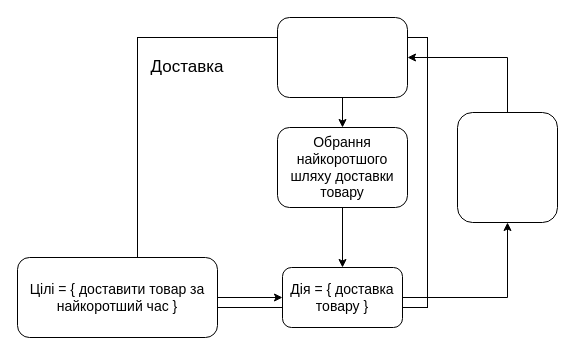
Image size: 575x355. Some labels were removed from this diagram. The shapes that lost their labels are listed below. From the top down, each one's box as (x1, y1, x2, y2) in pixels, then its label:
(276, 16, 408, 98): Сенсори = { замовлення на доставку }
(456, 112, 558, 222): Зовнішнє середовищє
